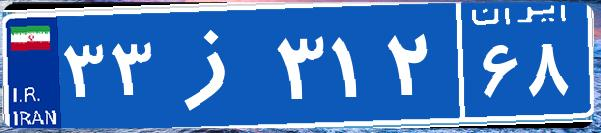1: (330, 28, 385, 110)
2: (385, 28, 445, 110)
3: (273, 28, 330, 110), (57, 26, 110, 107), (110, 28, 158, 105)
6: (475, 38, 525, 113)
8: (525, 38, 570, 115)
ز: (158, 15, 273, 115)
